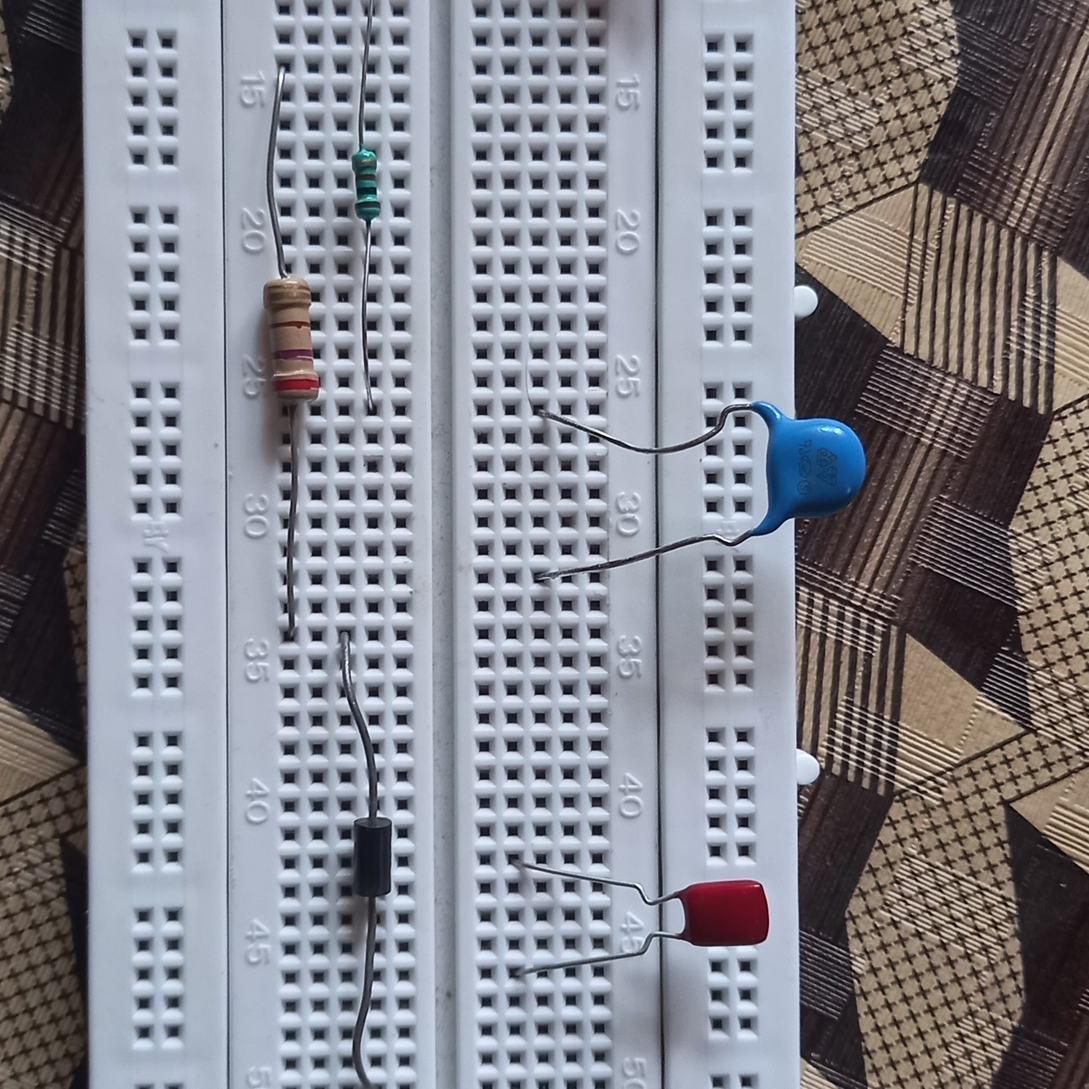capacitor: (753, 393, 871, 522), (675, 877, 775, 947)
resistor: (257, 272, 325, 407), (348, 148, 382, 227)
